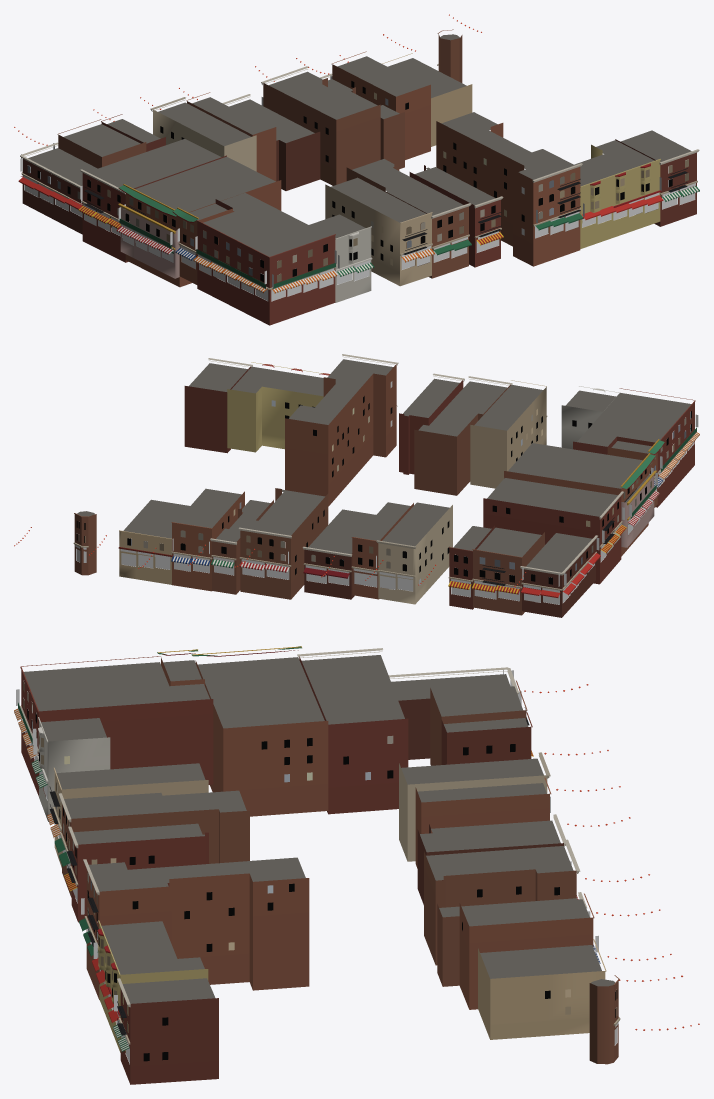
The picture shows the model from 3 angles, top to bottom: view 1: azimuth 30°, elevation 25°; view 2: azimuth 150°, elevation 25°; view 3: azimuth 270°, elevation 25°; orthographic projection. The views are drawn at different scales.
Visible parts, largest first — view 1: L1_roof, L1_brickred, L1_d_brickred, L1_stucco, L1_brick, L1_win, L1_d_fabric, L1_shopint, L1_stone, L1_sign, L1_d_stucco, L1_d_paint (+3 smaller); view 2: L1_roof, L1_brickred, L1_d_brickred, L1_stucco, L1_brick, L1_shopint, L1_stone, L1_win, L1_d_fabric, L1_d_brick, L1_d_stucco, L1_sign (+1 smaller); view 3: L1_brickred, L1_roof, L1_d_brickred, L1_stucco, L1_d_brick, L1_win, L1_stone, L1_d_fabric, L1_d_stucco, L1_d_metal, L1_sign.
Boxes of the visible parts, x1,y1,x2,y2 form: L1_roof: (28, 34, 691, 256); L1_brickred: (22, 34, 696, 325); L1_d_brickred: (58, 101, 660, 287); L1_stucco: (120, 144, 660, 302); L1_brick: (153, 109, 431, 286); L1_win: (27, 81, 688, 282); L1_d_fabric: (18, 173, 699, 293); L1_shopint: (24, 185, 695, 301); L1_stone: (20, 29, 699, 289); L1_sign: (20, 75, 695, 291); L1_d_stucco: (312, 84, 575, 289); L1_d_paint: (118, 184, 335, 289); L1_roof: (77, 359, 691, 572); L1_brickred: (74, 364, 694, 617); L1_d_brickred: (184, 366, 657, 614); L1_stucco: (119, 386, 654, 584); L1_brick: (378, 387, 546, 604); L1_shopint: (76, 440, 693, 604); L1_stone: (73, 354, 695, 590); L1_win: (76, 381, 691, 585); L1_d_fabric: (171, 432, 699, 597); L1_d_brick: (470, 425, 506, 488); L1_d_stucco: (180, 389, 619, 570); L1_sign: (75, 414, 698, 592); L1_brickred: (21, 657, 618, 1084); L1_roof: (23, 655, 615, 1003); L1_d_brickred: (71, 656, 526, 986); L1_stucco: (38, 721, 605, 1052); L1_d_brick: (62, 763, 547, 868); L1_win: (23, 681, 617, 1061); L1_stone: (20, 648, 620, 1044); L1_d_fabric: (14, 708, 600, 1052); L1_d_stucco: (120, 948, 490, 1052); L1_d_metal: (49, 707, 529, 1035); L1_sign: (16, 670, 618, 1046).
Size of the model in its own units: 131 by 26.93 by 117.
